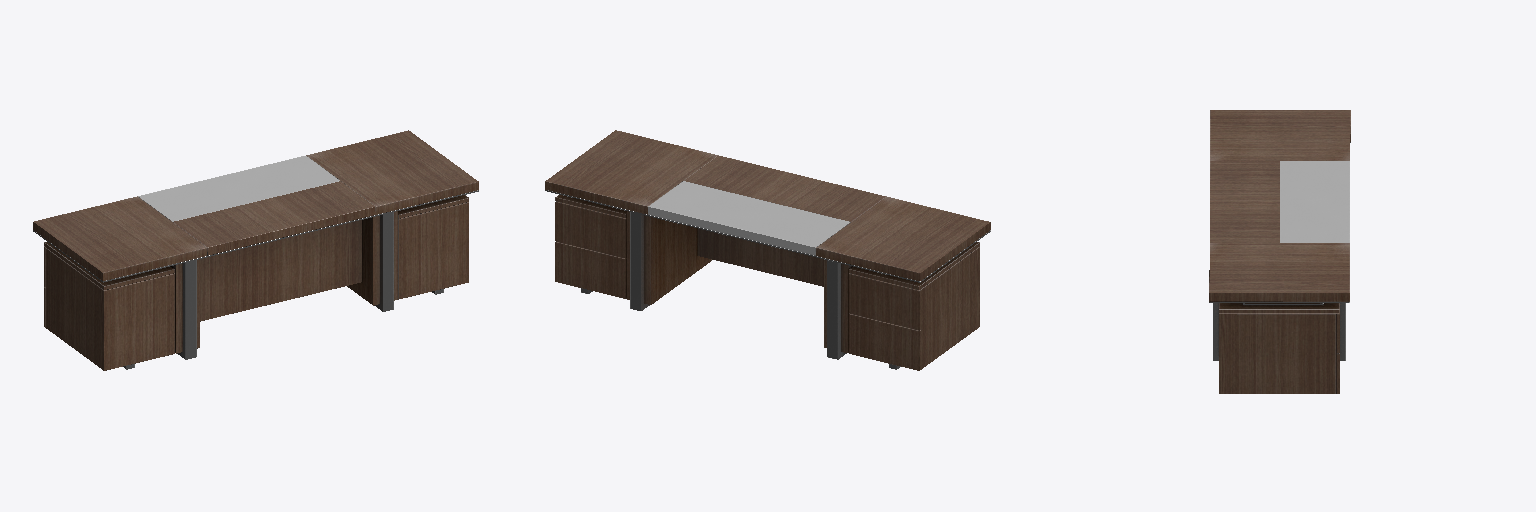
3 views of the same model, side by side, from view 1: azimuth 30°, elevation 25°; view 2: azimuth 150°, elevation 25°; view 3: azimuth 270°, elevation 25° (orthographic).
Parts seen in each view (by area): view 1: solid_003, solid_001, solid_002; view 2: solid_003, solid_001, solid_002; view 3: solid_003, solid_001, solid_002.
Part boxes in pixels (bbox=[...]): solid_003: bbox=[33, 130, 478, 370]; solid_001: bbox=[138, 156, 339, 221]; solid_002: bbox=[33, 190, 478, 369]; solid_003: bbox=[545, 130, 990, 370]; solid_001: bbox=[648, 181, 850, 255]; solid_002: bbox=[545, 190, 990, 369]; solid_003: bbox=[1209, 110, 1350, 393]; solid_001: bbox=[1280, 161, 1349, 242]; solid_002: bbox=[1209, 142, 1350, 360].
Bounding box in the file's own units: 2 × 0.5533 × 0.6511.
1 materials, 1 textured.